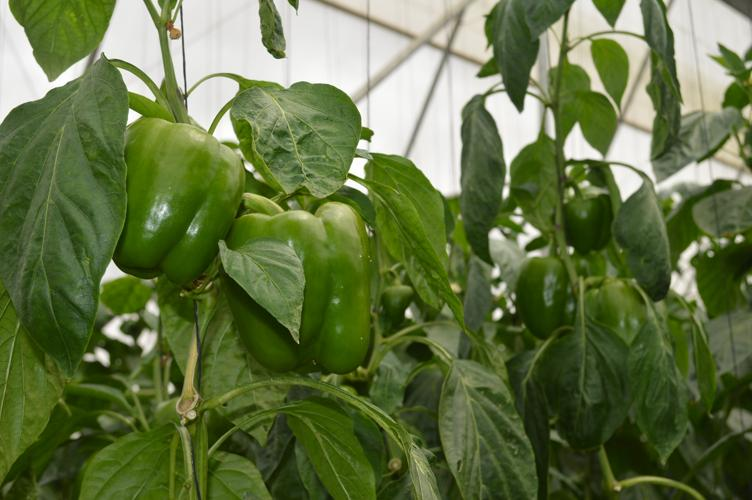BellPepper: (219, 205, 366, 374), (110, 113, 235, 283), (510, 254, 561, 342), (574, 279, 639, 339), (557, 196, 613, 252)
